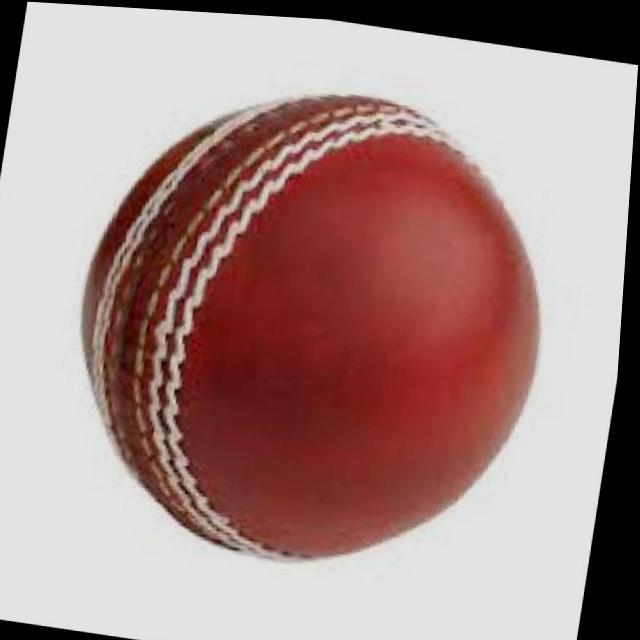-: (59, 62, 576, 589)
